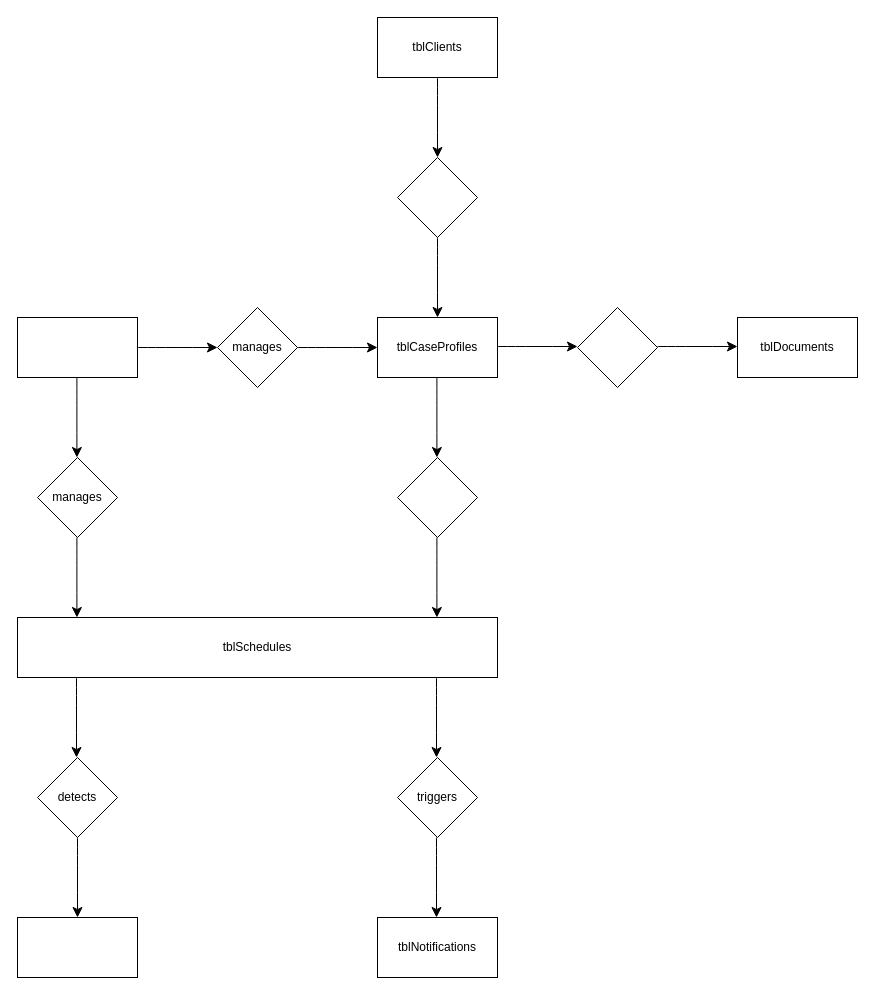
Image size: 875x995. Some labels were removed from this diagram. The shapes that lost their labels are listed below. From the top down, each one's centre as x and y in pixels, then its label:
At point 437,197: "engages".
At point 77,347: "tblUsers (Lawyers/Admin)".
At point 617,347: "contains".
At point 437,497: "has".
At point 77,947: "tblConflicts".
